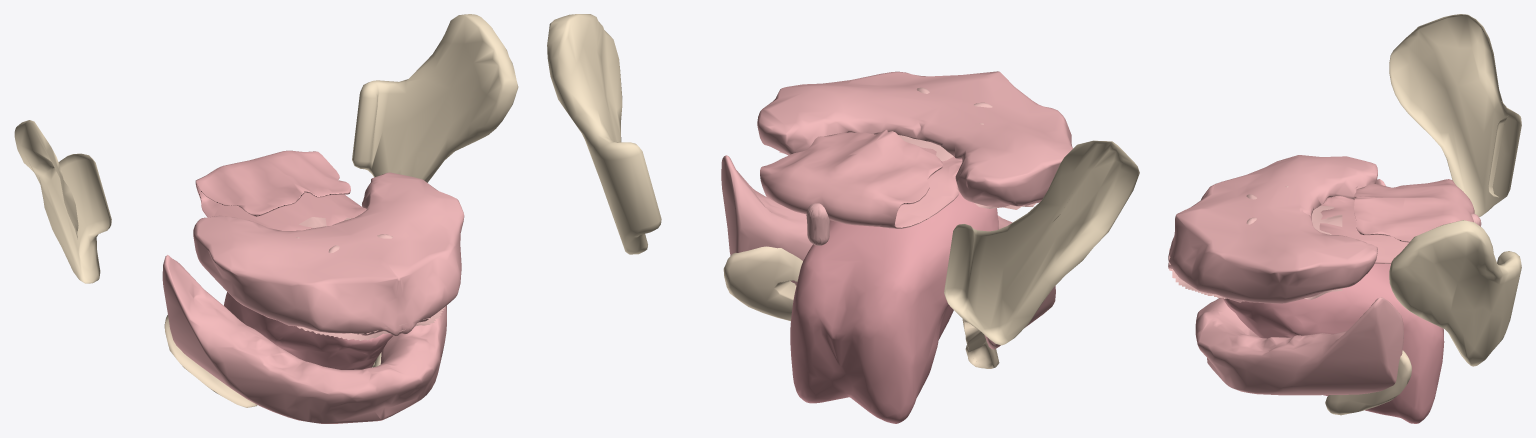
The model's file is zanatomy-oral.glb.
3 views of the same model, side by side, from view 1: azimuth 30°, elevation 25°; view 2: azimuth 150°, elevation 25°; view 3: azimuth 270°, elevation 25° (orthographic). The views are drawn at different scales.
Visible parts, largest first — view 1: zo_gingiva, zo_parotid, zo_soft_palate, zo_tongue, zo_submandibular, zo_hard_palate; view 2: zo_parotid, zo_gingiva, zo_tongue, zo_soft_palate, zo_submandibular, zo_uvula, zo_hard_palate; view 3: zo_gingiva, zo_parotid, zo_tongue, zo_soft_palate, zo_submandibular, zo_hard_palate.
Part boxes in pixels (x1,y1,x2,y2): zo_gingiva: (162, 172, 464, 423); zo_parotid: (14, 14, 518, 283); zo_soft_palate: (195, 150, 366, 230); zo_tongue: (224, 292, 392, 369); zo_submandibular: (164, 315, 374, 407); zo_hard_palate: (296, 217, 444, 340); zo_parotid: (547, 14, 1139, 345); zo_gingiva: (721, 71, 1072, 349); zo_tongue: (790, 192, 998, 423); zo_soft_palate: (760, 129, 962, 228); zo_submandibular: (723, 246, 999, 368); zo_uvula: (806, 203, 829, 245); zo_hard_palate: (779, 87, 1036, 209); zo_gingiva: (1168, 155, 1403, 395); zo_parotid: (1389, 14, 1521, 366); zo_tongue: (1222, 263, 1444, 423); zo_soft_palate: (1319, 179, 1474, 263); zo_submandibular: (1325, 350, 1411, 415); zo_hard_palate: (1169, 185, 1342, 301).
Size of the model in its own units: 0.13 by 0.0792 by 0.0882.
